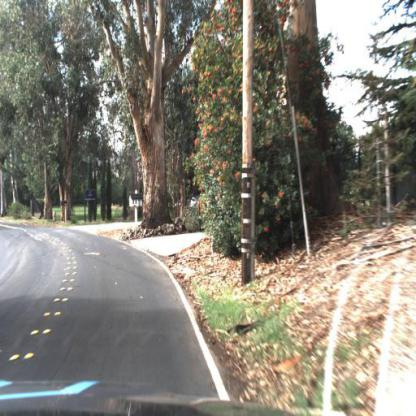car: (183, 193, 204, 217)
